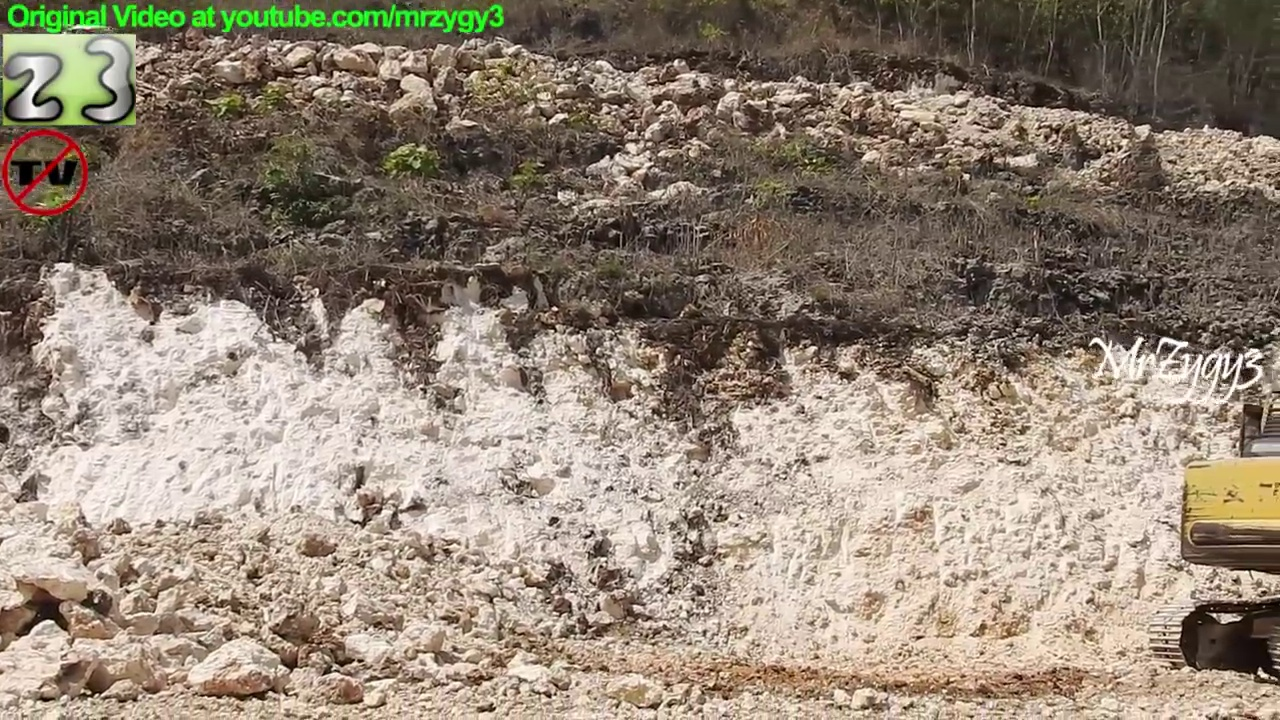excavator: (1141, 371, 1280, 689)
